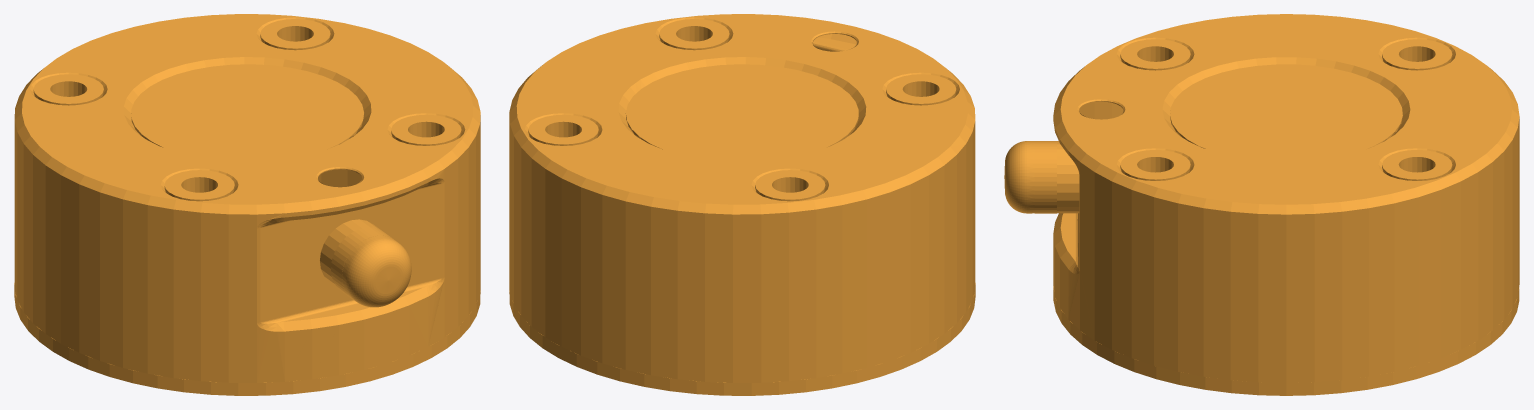
The model's file is DobotNova5Link6.dae.
3 renders of one model, left to right at view 1: azimuth 30°, elevation 25°; view 2: azimuth 150°, elevation 25°; view 3: azimuth 270°, elevation 25°, orthographic.
Parts seen in each view (by area): view 1: Nova5Link6; view 2: Nova5Link6; view 3: Nova5Link6.
Boxes of the visible parts, left/top/right/bottom form: Nova5Link6: left=14, top=14, right=480, bottom=395; Nova5Link6: left=509, top=14, right=975, bottom=395; Nova5Link6: left=1004, top=14, right=1519, bottom=395.
Bounding box in the file's own units: 0.0633 × 0.0699 × 0.0282.
